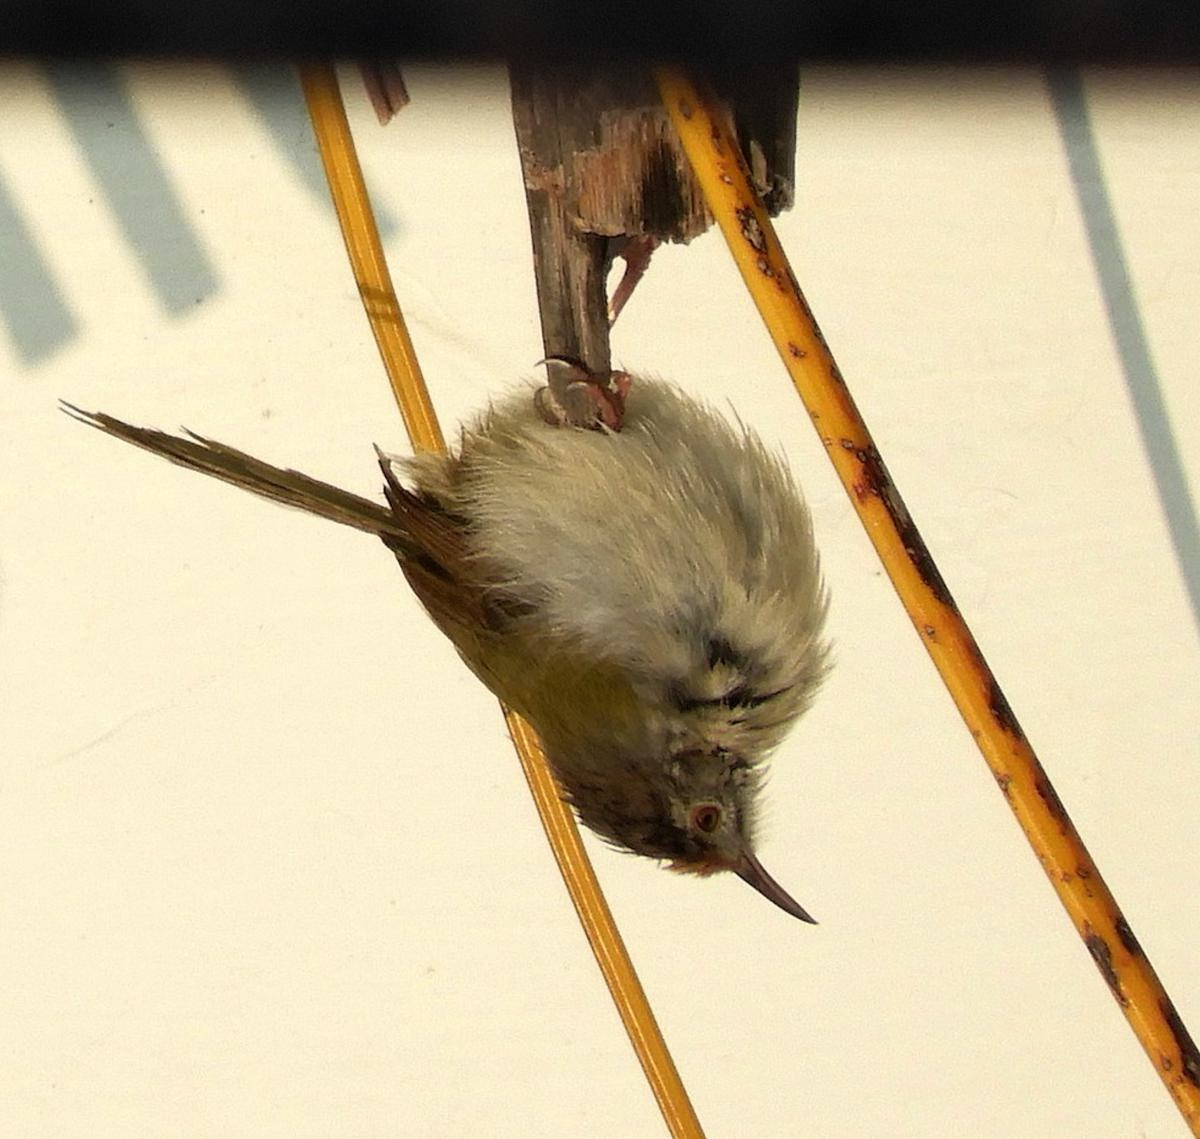tailorbird: (55, 294, 916, 991)
